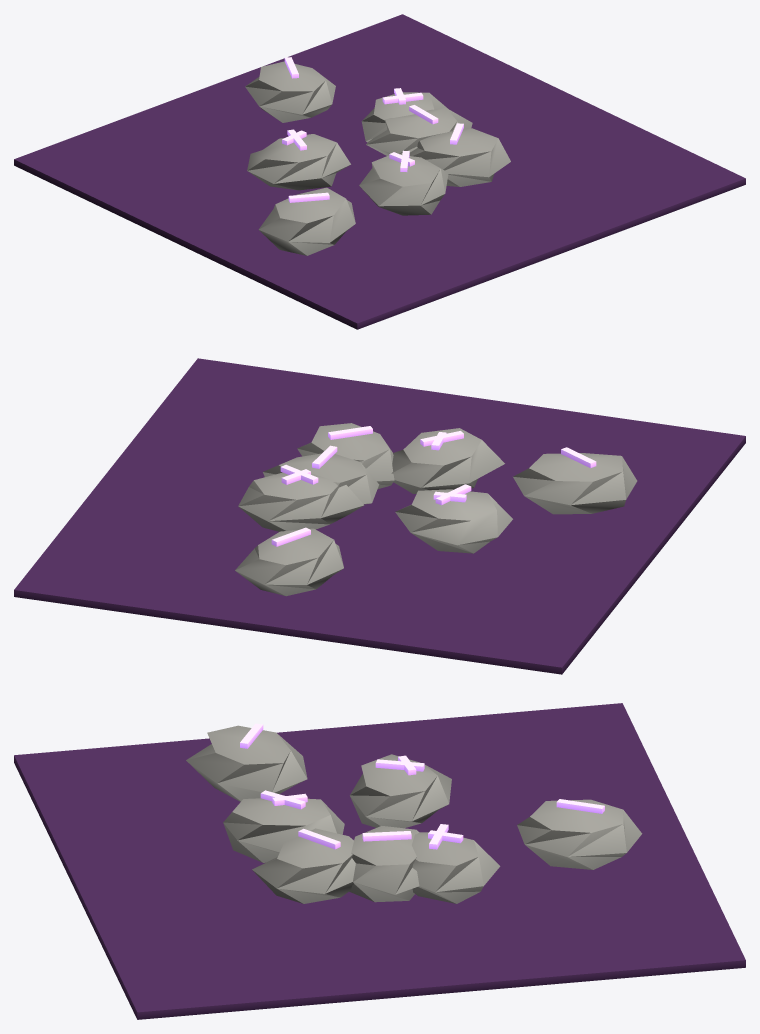
File: rune_stones.glb
The picture shows the model from 3 angles, top to bottom: view 1: azimuth 30°, elevation 25°; view 2: azimuth 150°, elevation 25°; view 3: azimuth 270°, elevation 25°; orthographic projection. The views are drawn at different scales.
Visible parts, largest first — view 1: rune_stones, rune_stones_glow; view 2: rune_stones, rune_stones_glow; view 3: rune_stones, rune_stones_glow.
Boxes of the visible parts, x1,y1,x2,y2 form: rune_stones: [14, 14, 745, 329]; rune_stones_glow: [282, 57, 463, 202]; rune_stones: [14, 358, 745, 674]; rune_stones_glow: [271, 426, 596, 546]; rune_stones: [14, 703, 745, 1019]; rune_stones_glow: [240, 723, 604, 849].
Size of the model in its own units: 1.06 by 0.094 by 1.06.
